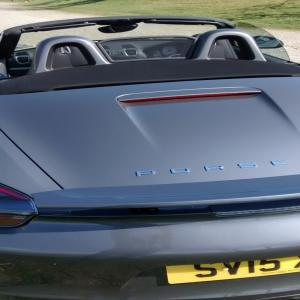Vehicle-registration-plate: (168, 257, 300, 286)
